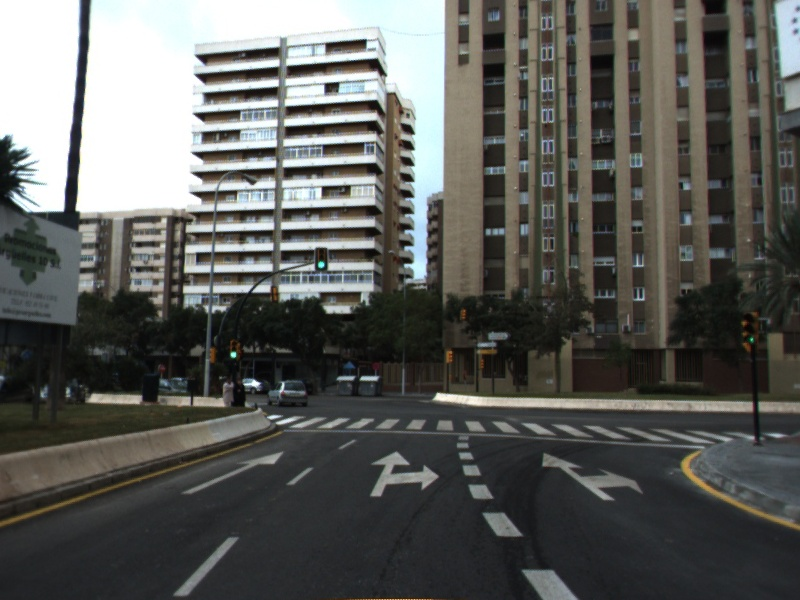STRAIGHT: (179, 449, 286, 496)
STRAIGHT_RIGHT: (540, 451, 645, 503), (367, 449, 442, 498)
